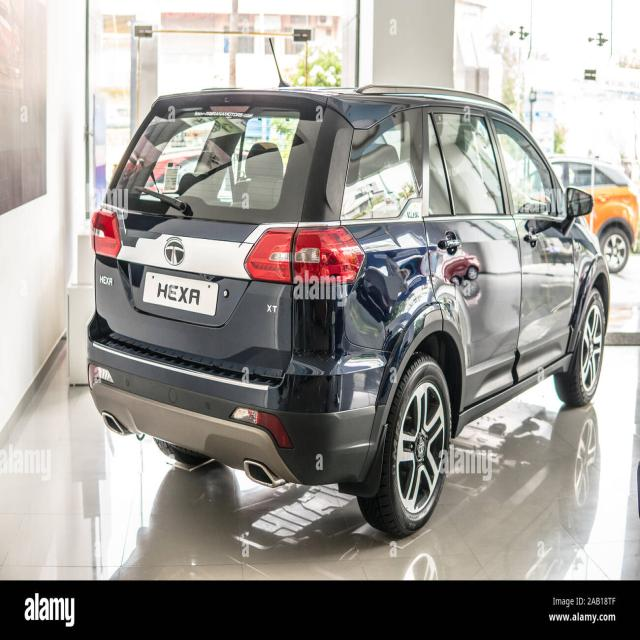Car: (88, 73, 614, 536)
